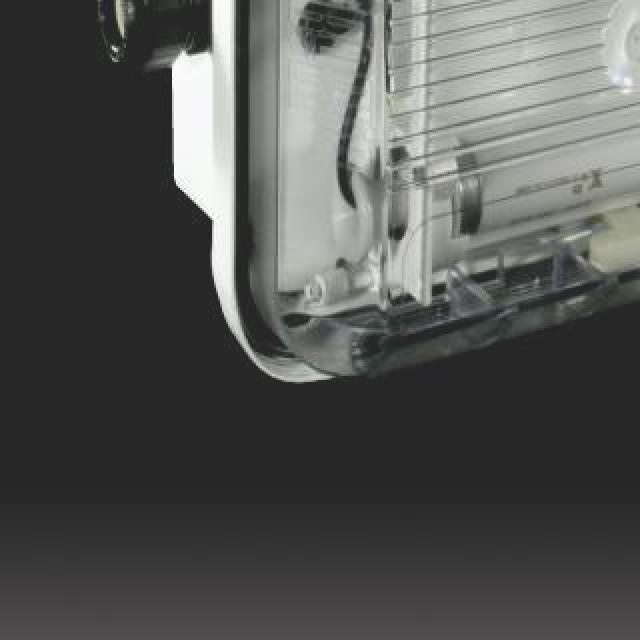fluorescent tube: (372, 0, 640, 252)
